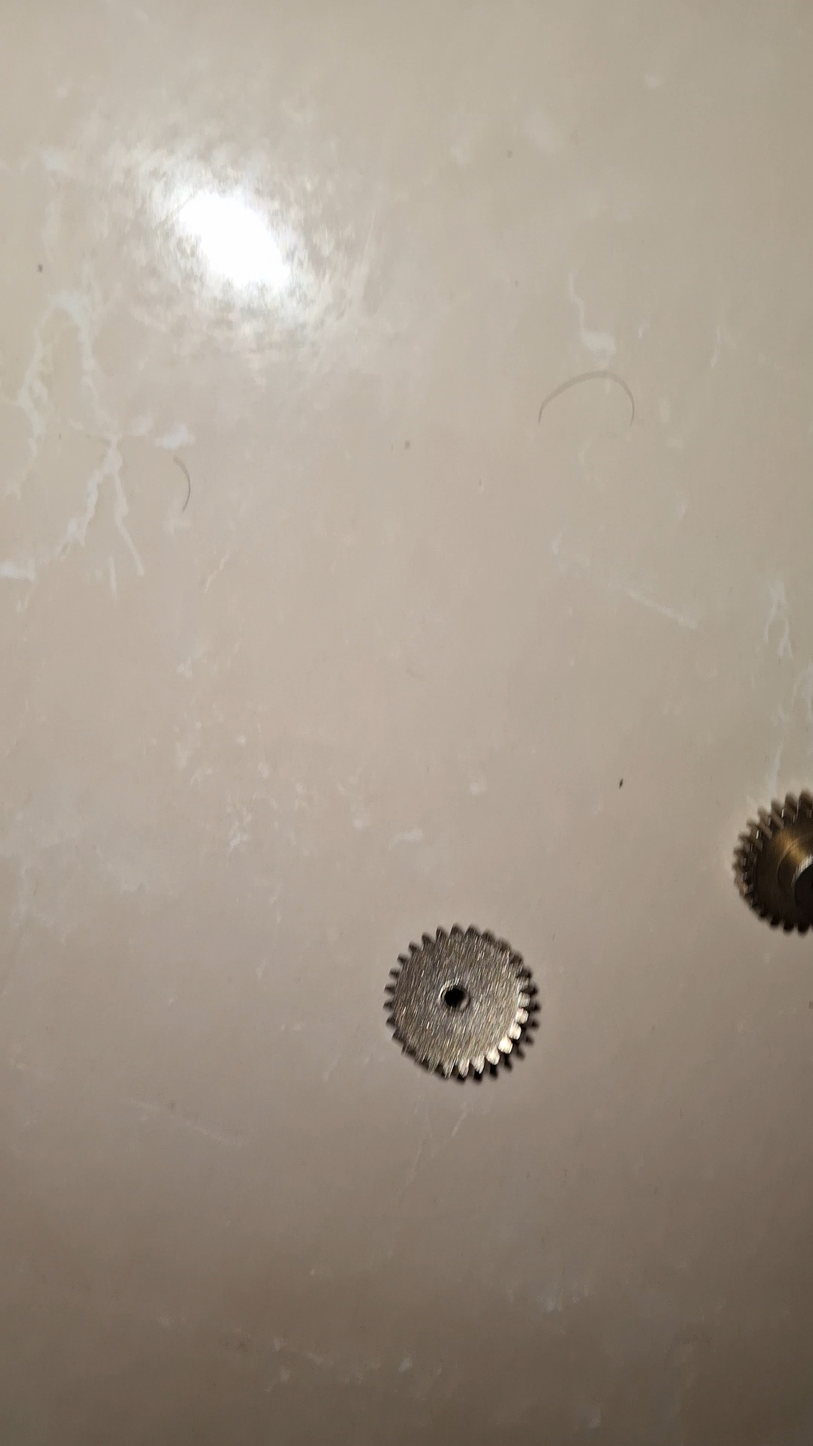spur gear: (385, 926, 534, 1077), (734, 793, 813, 932)
